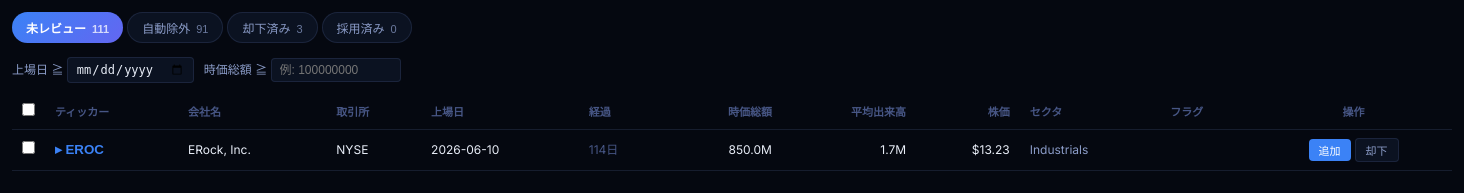
Test: UniverseCandidatesPage › チェックボックスで選ぶと一括操作が出る
This screenshot has width=1464, height=193.
Expected: the text "ERock, Inc." is shown, [178,129,326,170]
What coordinates should you click on to do the following:
click the checkbox in the row of "ERock, Inc."
I would click on:
 (28, 147)
Its box is [22,140,35,154].
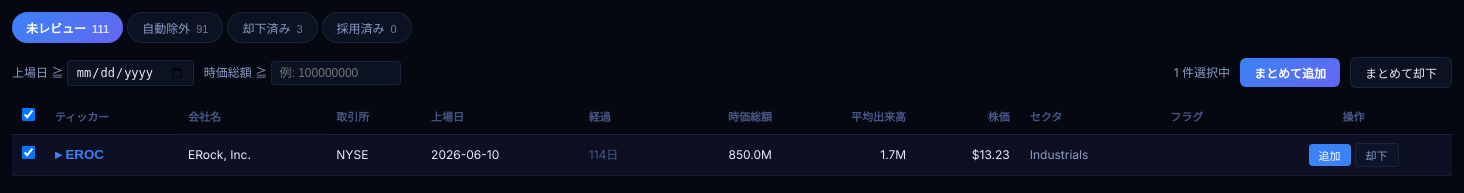
Now the text "1 件選択中" is shown, box [1174,64,1230,82]
Now the button "まとめて追加" is shown, box [1240,58,1340,87]
